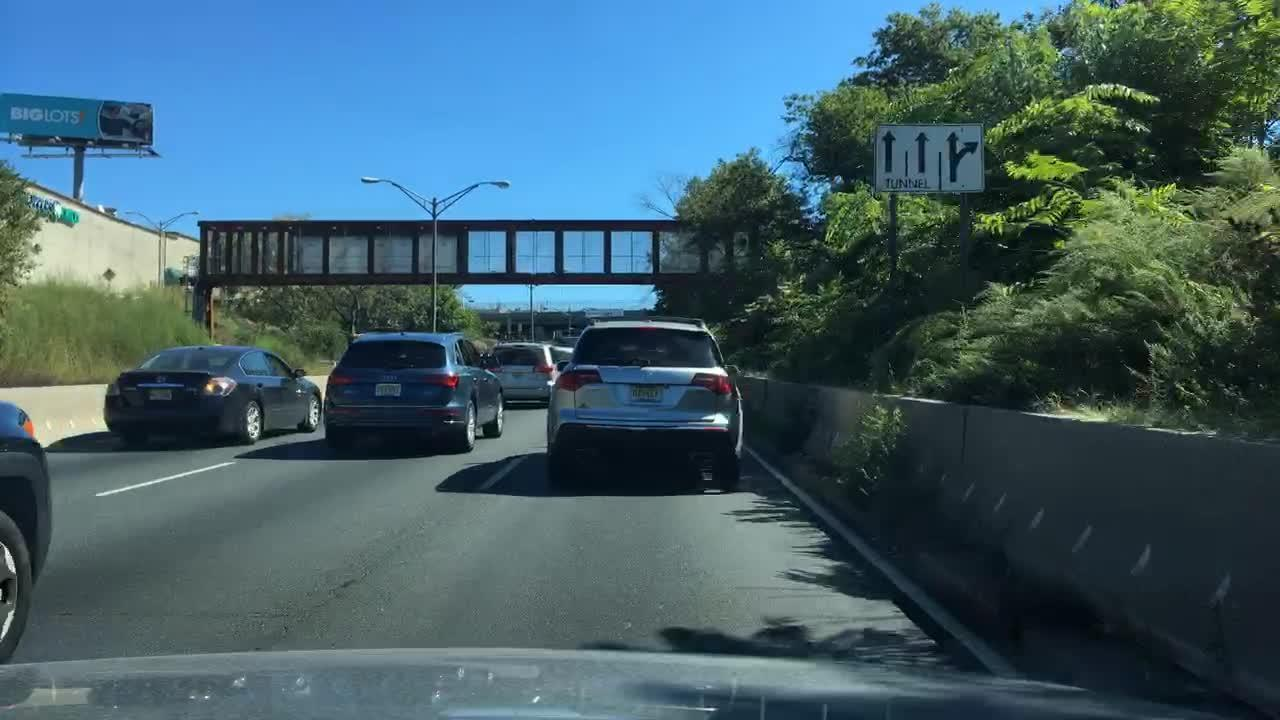Audi: (375, 375, 400, 385)
